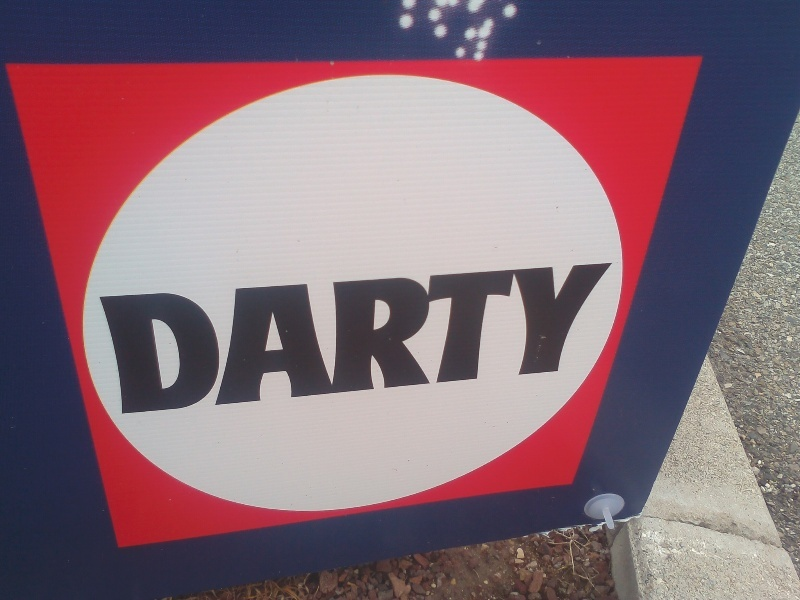text: (113, 259, 128, 417), (129, 259, 144, 417), (145, 259, 160, 417), (161, 259, 176, 417), (177, 259, 192, 417), (193, 259, 208, 417), (209, 259, 224, 417), (225, 259, 240, 417), (241, 259, 256, 417), (257, 259, 272, 417), (273, 259, 288, 417), (289, 259, 304, 417), (305, 259, 320, 417), (321, 259, 336, 417), (337, 259, 352, 417), (353, 259, 368, 417), (369, 259, 384, 417), (385, 259, 400, 417), (401, 259, 416, 417), (417, 259, 432, 417), (433, 259, 448, 417), (449, 259, 464, 417), (465, 259, 480, 417), (481, 259, 496, 417), (497, 259, 512, 417), (513, 259, 528, 417), (529, 259, 544, 417), (545, 259, 560, 417), (561, 259, 576, 417), (577, 259, 592, 417), (593, 259, 608, 417), (100, 259, 112, 417), (609, 259, 614, 417)
